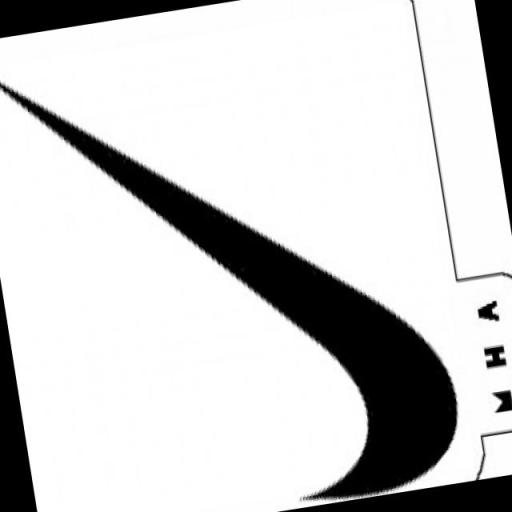Nike: (0, 0, 471, 512)
